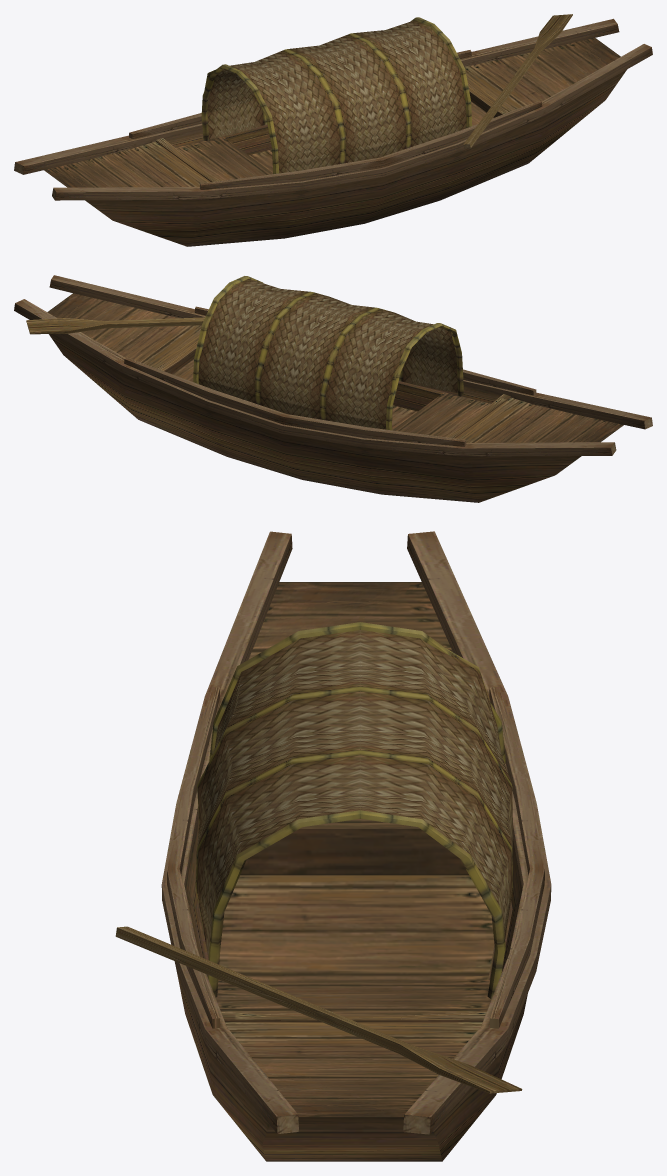
Rendered from chuan_02.FBX.
The picture shows the model from 3 angles, top to bottom: view 1: azimuth 30°, elevation 25°; view 2: azimuth 150°, elevation 25°; view 3: azimuth 270°, elevation 25°; orthographic projection. The views are drawn at different scales.
Visible parts, largest first — view 1: chuan_02; view 2: chuan_02; view 3: chuan_02.
Boxes of the visible parts, x1=… form: chuan_02: x1=14, y1=14, x2=652, y2=246; chuan_02: x1=14, y1=275, x2=652, y2=502; chuan_02: x1=115, y1=531, x2=551, y2=1161.
Size of the model in its own units: 0.4002 by 0.098 by 0.126.
Materials: 1 (1 with a texture image).
